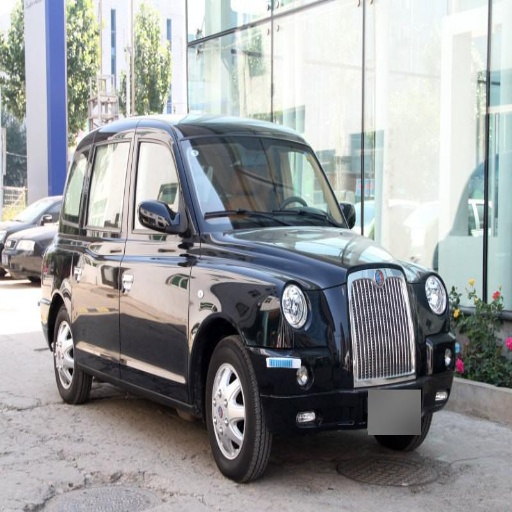front_bumper: (251, 267, 455, 433)
front_right_door: (118, 126, 198, 392)
front_right_light: (281, 279, 310, 328)
hood: (225, 227, 401, 286)
